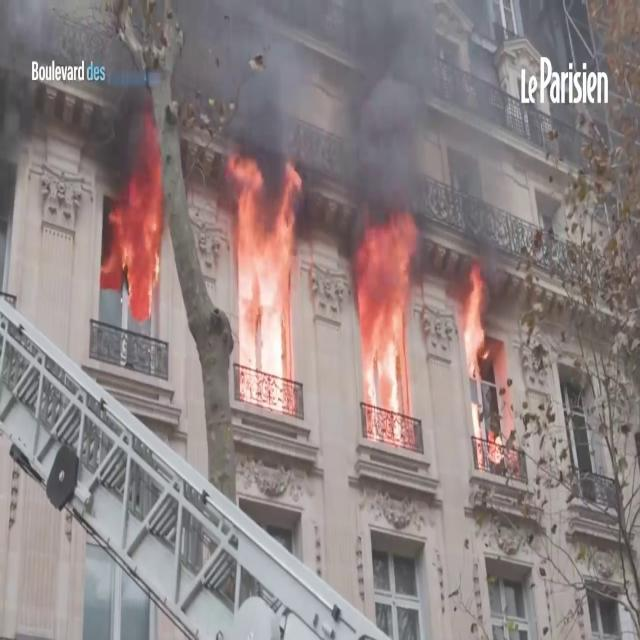Fire: (222, 150, 306, 410), (352, 211, 421, 441), (104, 144, 170, 318), (458, 263, 492, 382)
Smoke: (215, 0, 508, 254), (0, 0, 150, 212)
